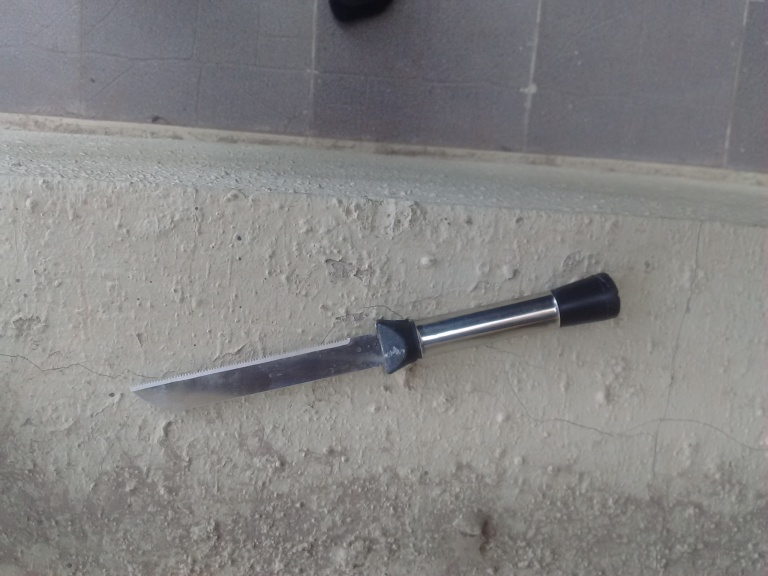knife: (125, 270, 624, 412)
